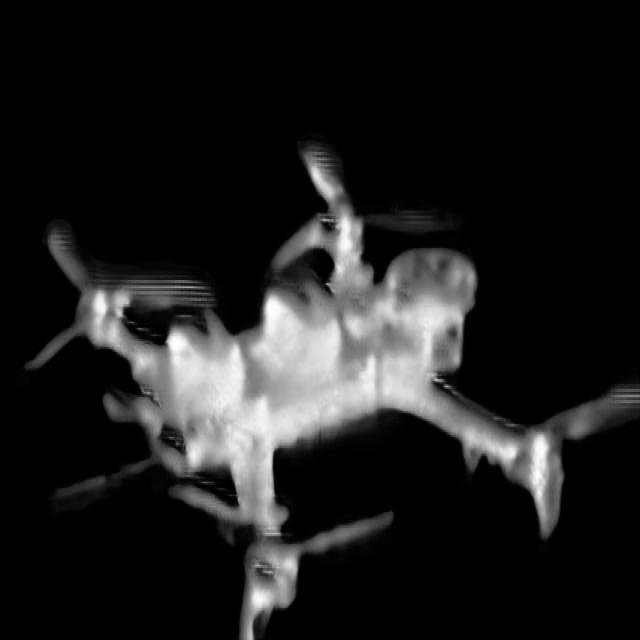drone: (1, 128, 640, 640)
